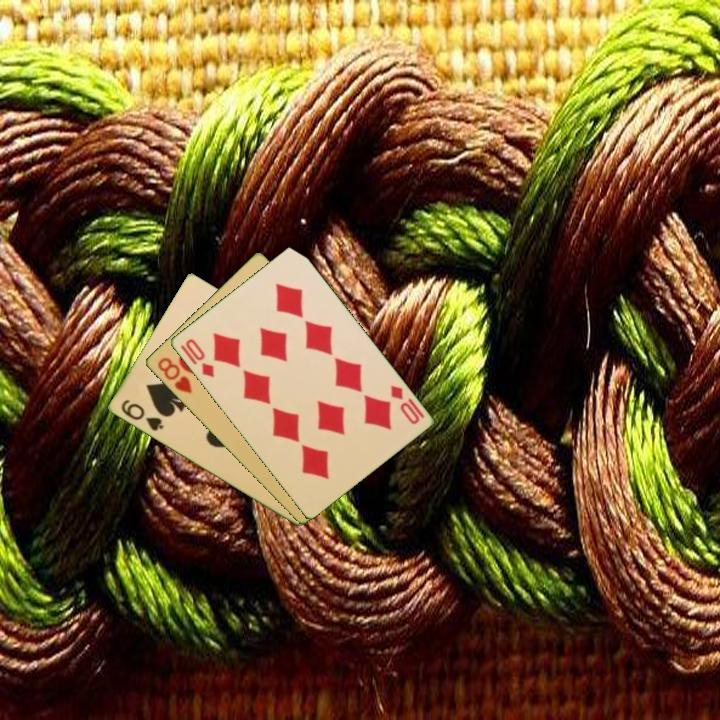10d: (181, 335, 217, 381), (386, 382, 422, 427)
6s: (117, 396, 166, 434)
8h: (153, 354, 195, 397)
